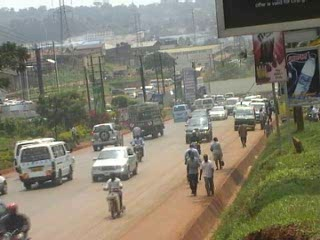Car: (91, 144, 140, 183), (188, 104, 212, 124), (208, 104, 229, 123), (0, 169, 11, 196)
Motorcycle: (0, 201, 36, 239), (101, 173, 129, 219), (128, 135, 147, 165), (187, 128, 204, 156), (131, 123, 146, 143)
